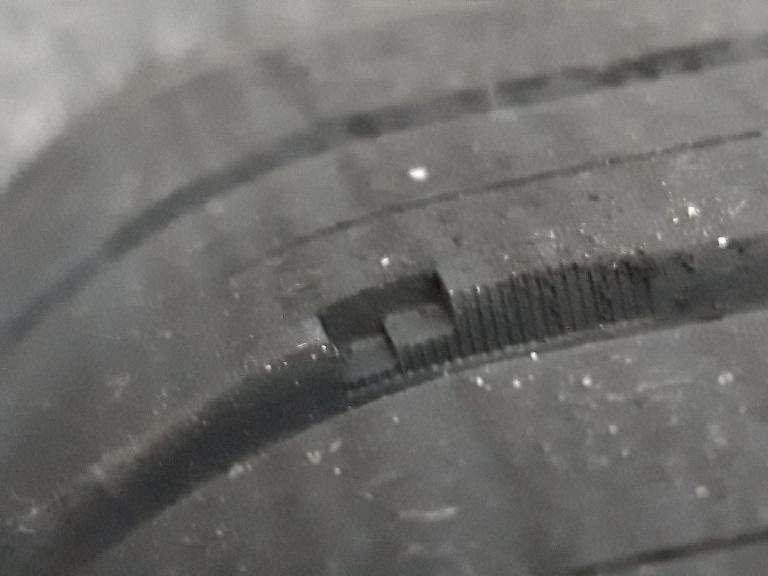temoin:50: (301, 246, 524, 410)
